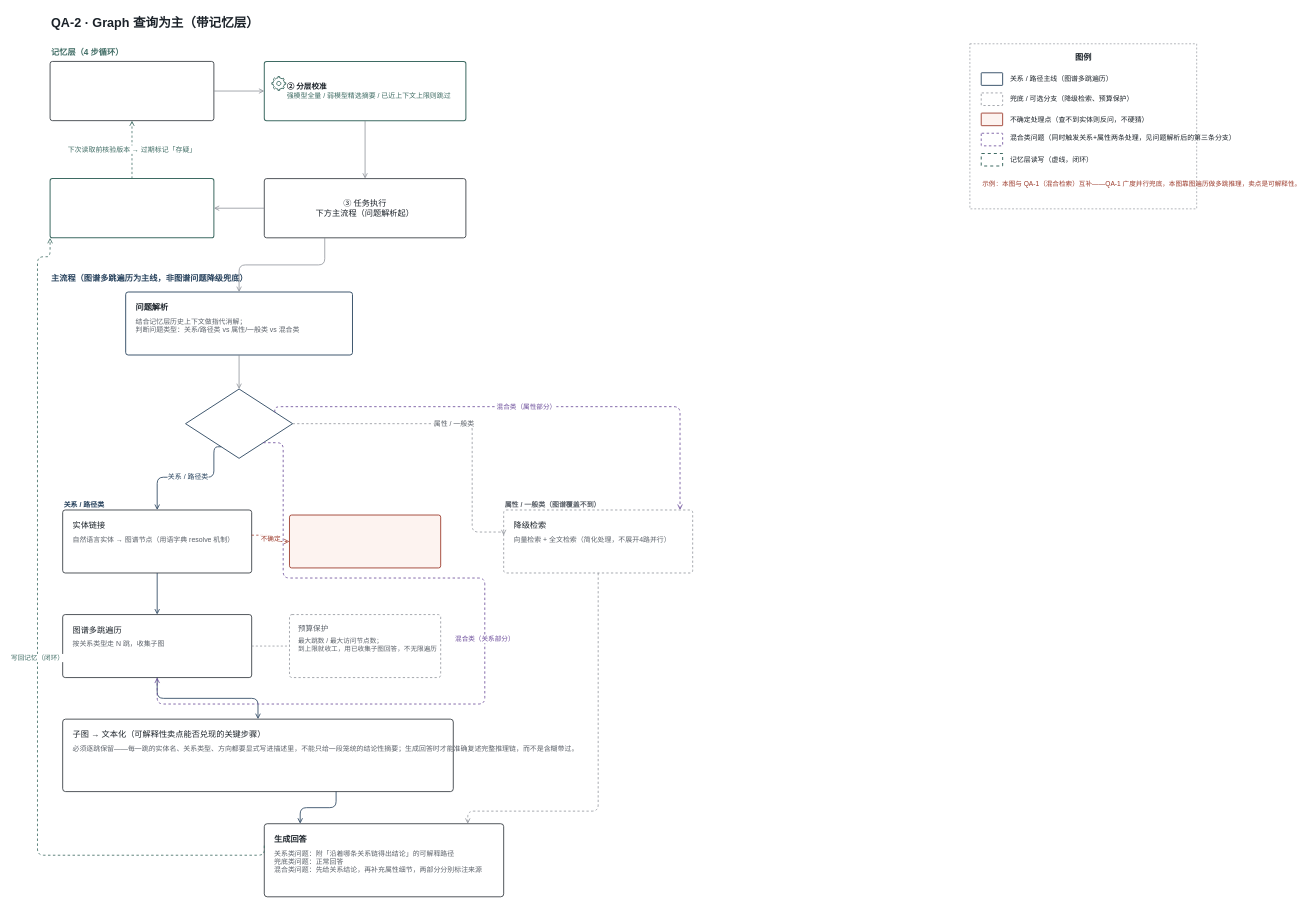
Image size: 1312x908. Some labels were removed from this diagram. The centre of each missing label's shape, as x and y in pixels:
"① 查询记忆库 按 user_id / project_id 取历史对话 + 已解析实体/结论" goes at (131,91).
"④ 写入声明 + 版本化证据 非覆盖式追加" goes at (131,208).
"查不到 → 返回候选 反问用户，不硬猜" goes at (365,541).
"问题类型？" goes at (239,423).
